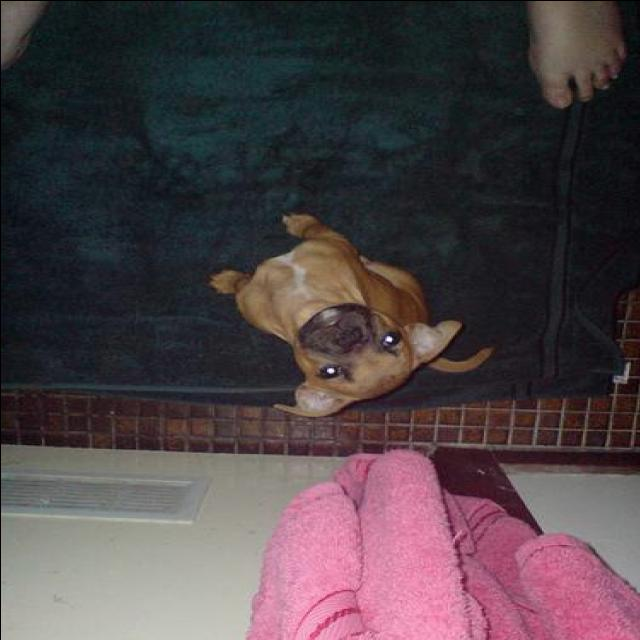staffordshire_bullterrier: (210, 211, 495, 419)
